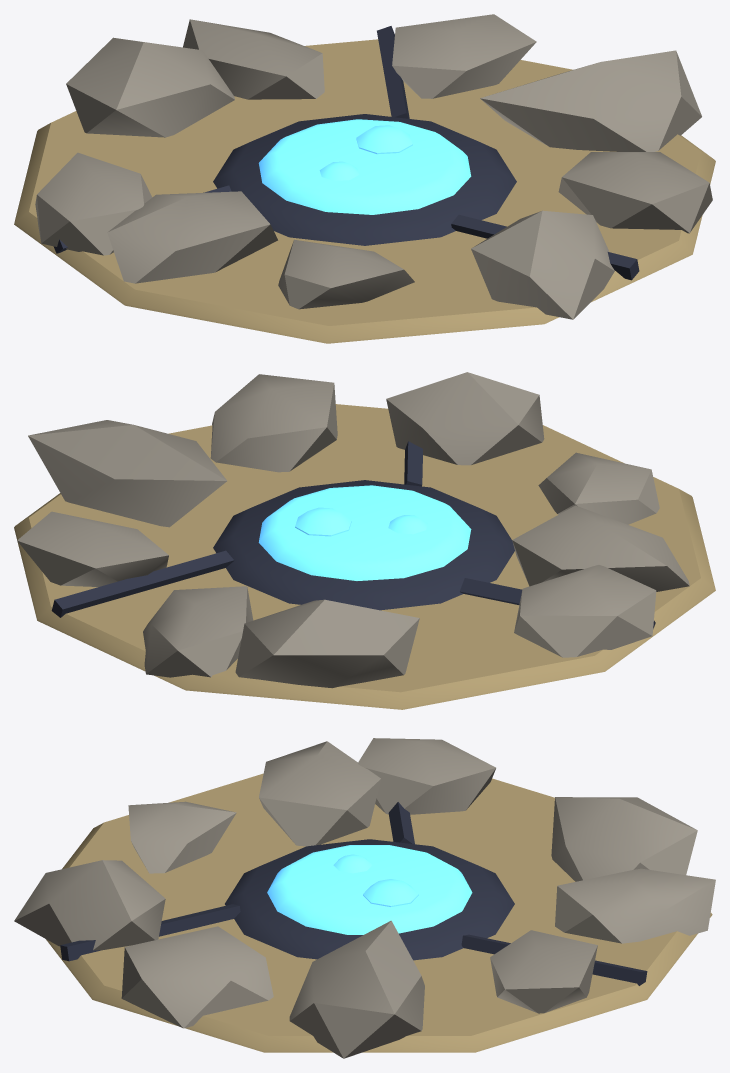
The model's file is Geyser.fbx.
The picture shows the model from 3 angles, top to bottom: view 1: azimuth 30°, elevation 25°; view 2: azimuth 150°, elevation 25°; view 3: azimuth 270°, elevation 25°; orthographic projection. The views are drawn at different scales.
Parts seen in each view (by area): view 1: Geyser, Vent; view 2: Geyser, Vent; view 3: Geyser, Vent.
Boxes of the visible parts, left/top/right/bottom form: Geyser: left=14, top=14, right=715, bottom=343; Vent: left=258, top=119, right=471, bottom=214; Geyser: left=14, top=372, right=715, bottom=709; Vent: left=258, top=485, right=471, bottom=580; Geyser: left=14, top=738, right=715, bottom=1058; Vent: left=267, top=845, right=472, bottom=934.
Size of the model in its own units: 1.65 by 0.2509 by 1.67.
